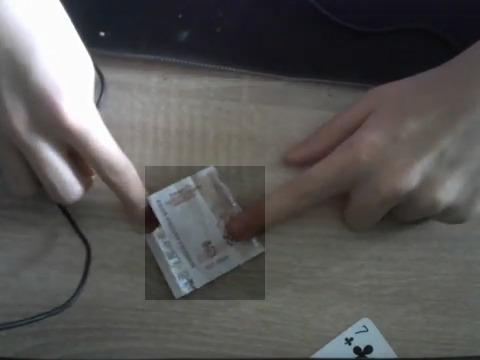5leva: (145, 166, 265, 300)
